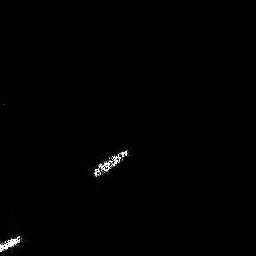ship: (94, 149, 129, 176), (1, 234, 22, 253)
